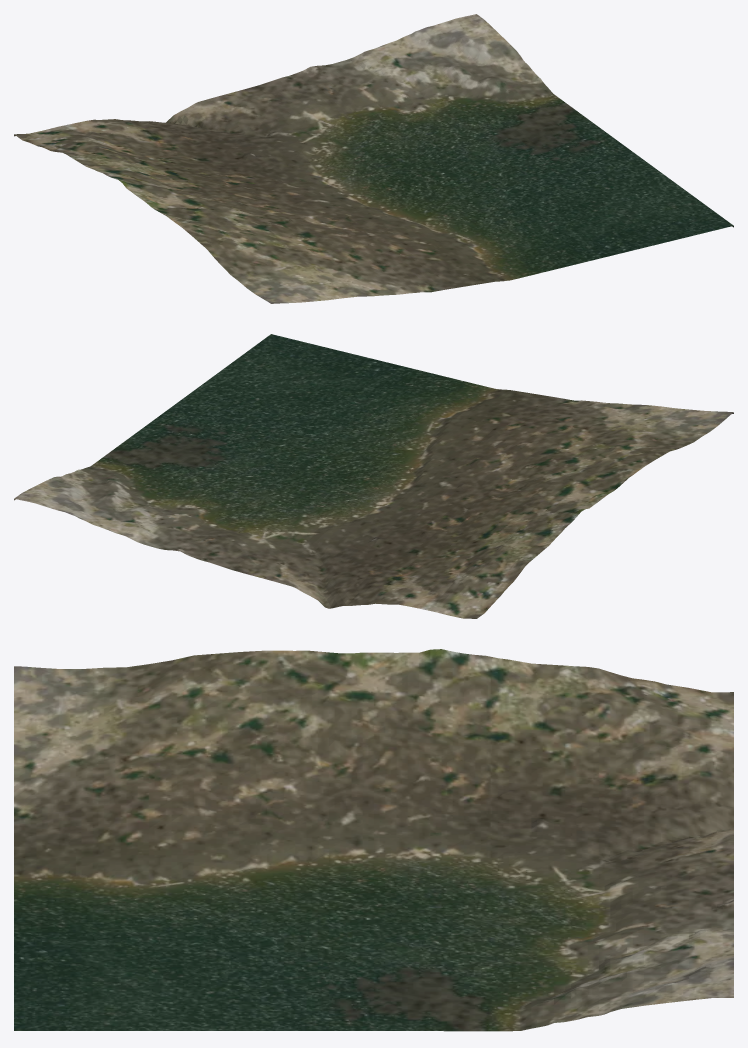
3 renders of one model, top to bottom at view 1: azimuth 30°, elevation 25°; view 2: azimuth 150°, elevation 25°; view 3: azimuth 270°, elevation 25°, orthographic. The views are drawn at different scales.
Bounding box in the file's own units: 250 × 30.24 × 241.
1 material, 1 textured.
